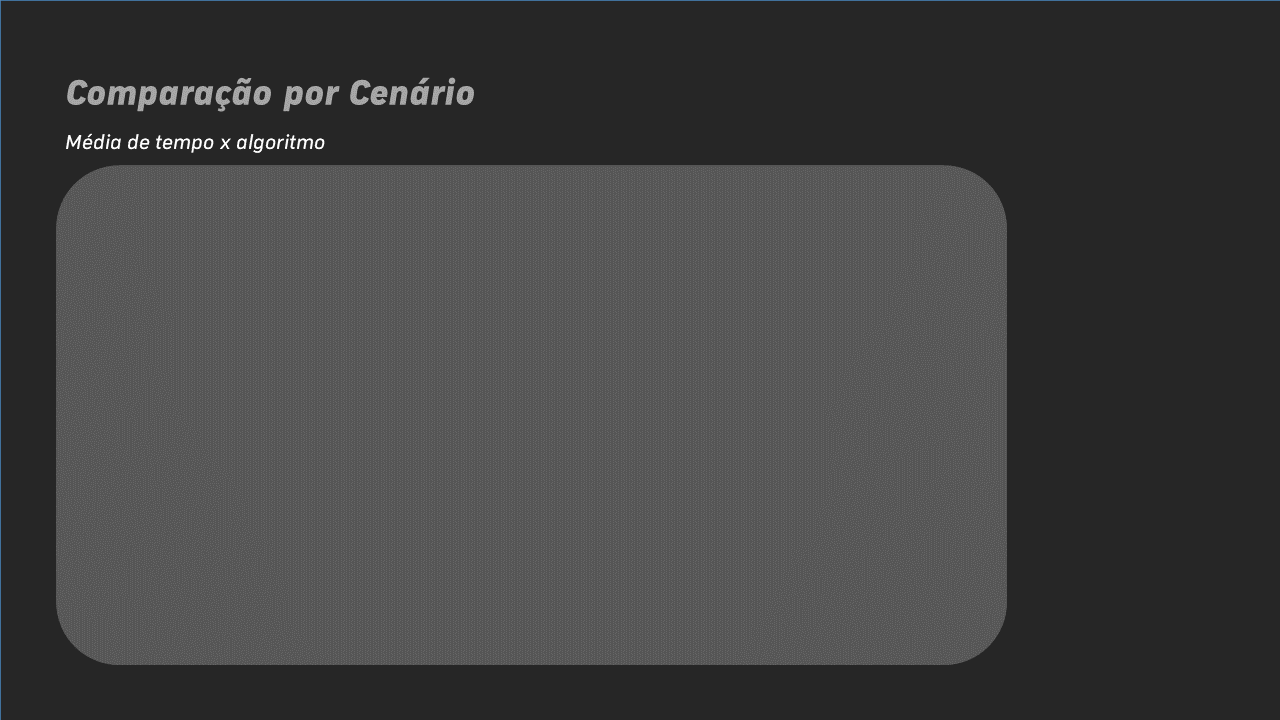

The dashboard page shown, as its layout file describes it:
{"tool":"powerbi","page":{"name":"Página 2","canvas":[1280,720],"ordinal":1},"visuals":[{"type":"slicer","fields":{"Values":["Dados.Cenário"]},"box":[1059.2,174.9,174.9,470.5],"z":0},{"type":"columnChart","fields":{"Y":["Avg(Dados.Tempo (s))","select","select1"],"Category":["Dados.Algoritmo"]},"box":[83.7,183,891.6,481],"z":4001}]}

Visuals, with their boxes in screenshot pixels (x1, y1, x2, y2), scaled from the page's 1280x720 canvas onto the 1280x720 screenshot:
slicer - Dados.Cenário: locate(1059, 175, 1234, 645)
columnChart - Avg(Dados.Tempo (s)) x select: locate(84, 183, 975, 664)
